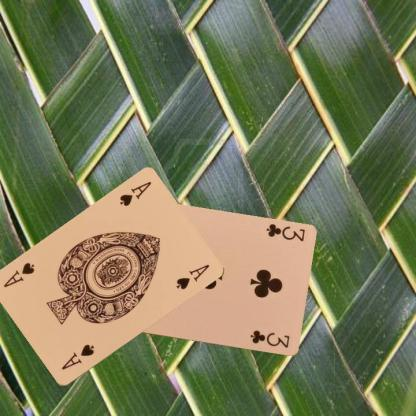3c: (263, 221, 306, 243)
As: (58, 342, 96, 372), (116, 179, 152, 208)
